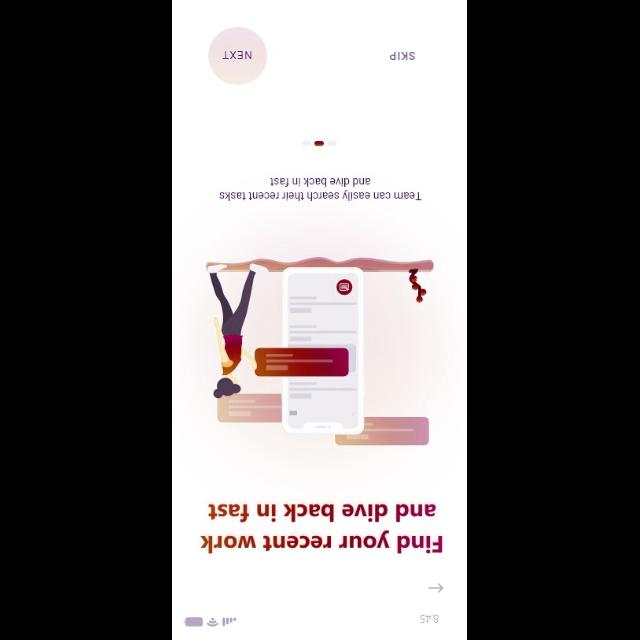icon: (428, 583, 444, 593)
image: (206, 256, 434, 446)
pageindicator: (302, 140, 336, 146)
text: (200, 502, 442, 554), (220, 178, 422, 202), (390, 51, 416, 60)
textbutton: (208, 27, 268, 85)
uppertaskbar: (184, 614, 440, 626)
